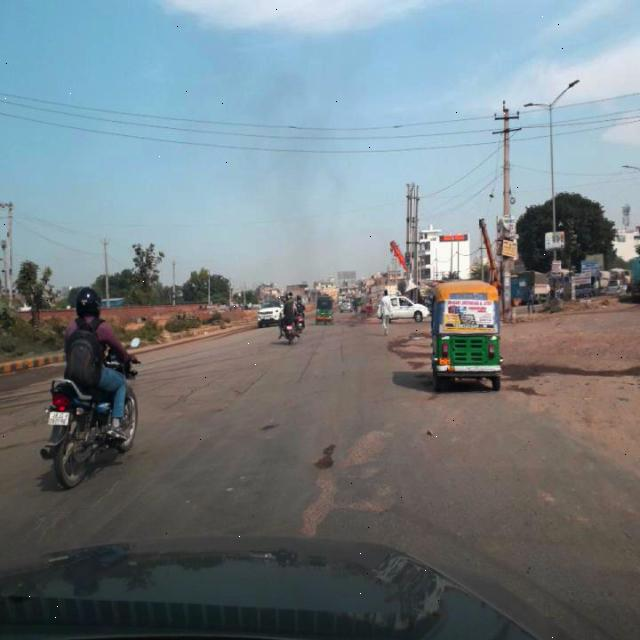D40: (298, 422, 404, 534)
